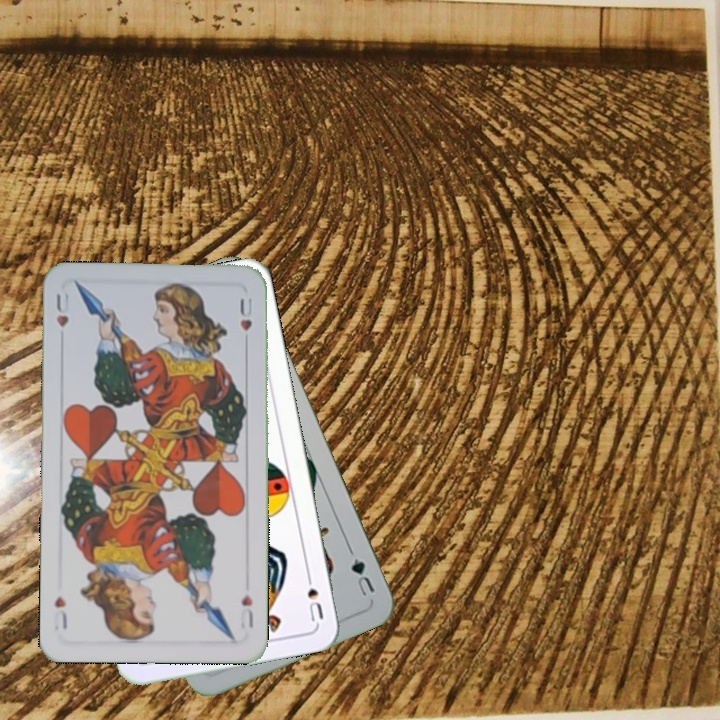GU: (347, 554, 378, 599)
HU: (236, 590, 256, 631), (52, 289, 71, 330)
SU: (301, 566, 326, 624)
